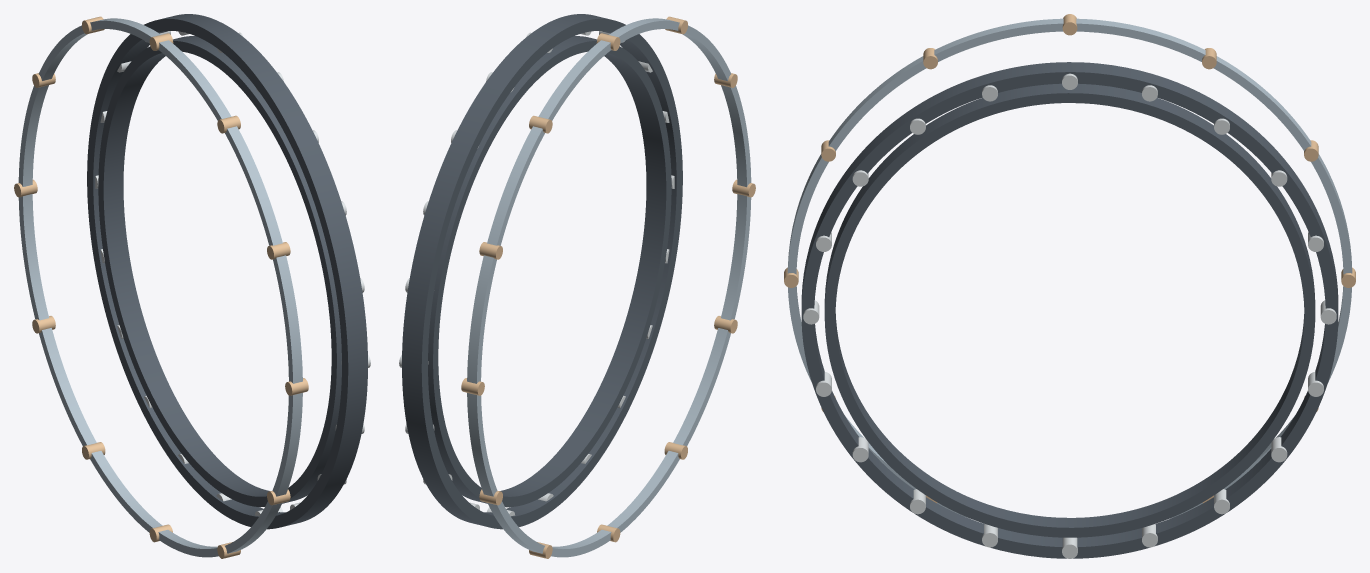
File: gearbox-support-hardware.glb
3 views of the same model, side by side, from view 1: azimuth 30°, elevation 25°; view 2: azimuth 150°, elevation 25°; view 3: azimuth 270°, elevation 25° (orthographic). The views are drawn at different scales.
Visible parts, largest first — view 1: gearbox-support-hardware - seal, gearbox-support-hardware - steel, gearbox-support-hardware - bronze, gearbox-support-hardware - fastener; view 2: gearbox-support-hardware - seal, gearbox-support-hardware - steel, gearbox-support-hardware - bronze, gearbox-support-hardware - fastener; view 3: gearbox-support-hardware - seal, gearbox-support-hardware - steel, gearbox-support-hardware - fastener, gearbox-support-hardware - bronze.
Part boxes in pixels (x1=…): gearbox-support-hardware - seal: x1=87, y1=14, x2=367, y2=529; gearbox-support-hardware - steel: x1=18, y1=18, x2=302, y2=557; gearbox-support-hardware - bronze: x1=14, y1=16, x2=308, y2=558; gearbox-support-hardware - fastener: x1=95, y1=31, x2=370, y2=516; gearbox-support-hardware - seal: x1=402, y1=14, x2=682, y2=529; gearbox-support-hardware - steel: x1=467, y1=18, x2=751, y2=557; gearbox-support-hardware - bronze: x1=461, y1=16, x2=755, y2=558; gearbox-support-hardware - fastener: x1=399, y1=31, x2=674, y2=516; gearbox-support-hardware - seal: x1=801, y1=62, x2=1338, y2=558; gearbox-support-hardware - steel: x1=787, y1=18, x2=1352, y2=518; gearbox-support-hardware - fastener: x1=803, y1=73, x2=1336, y2=558; gearbox-support-hardware - bronze: x1=784, y1=14, x2=1355, y2=503.
Size of the model in its own units: 0.288 by 1.58 by 1.58.
